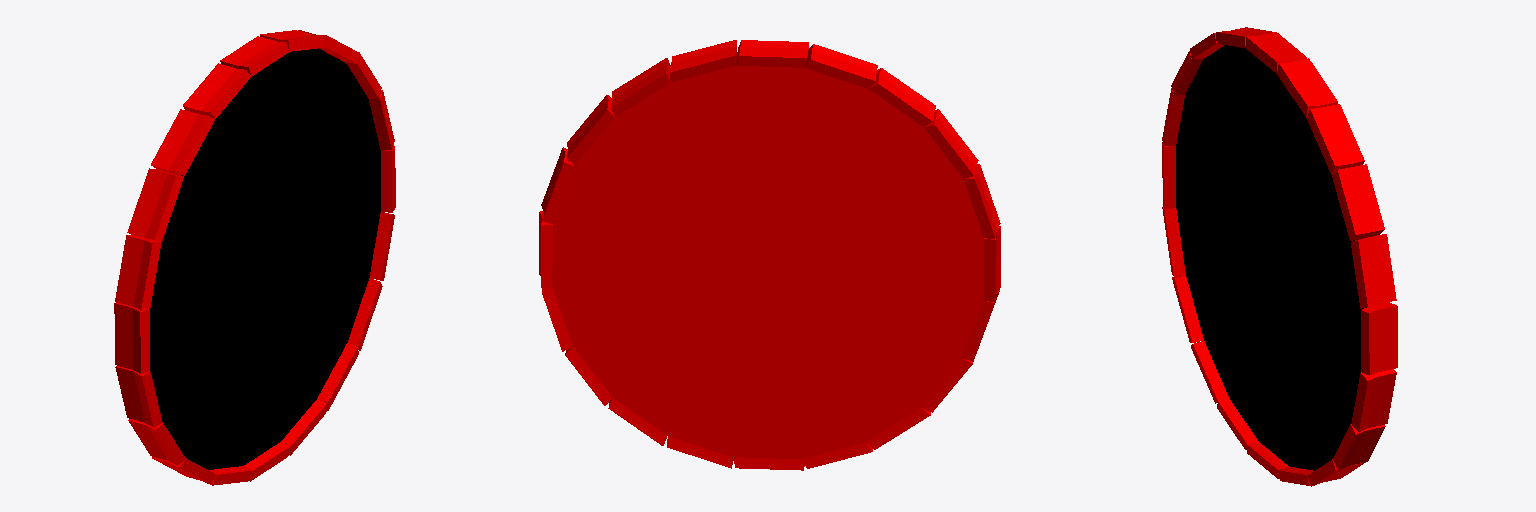
File: clock.obj
3 views of the same model, side by side, from view 1: azimuth 30°, elevation 25°; view 2: azimuth 150°, elevation 25°; view 3: azimuth 270°, elevation 25° (orthographic).
Visible parts, largest first — view 1: pCylinder1; view 2: pCylinder1; view 3: pCylinder1.
Part boxes in pixels (x1,y1,x2,y2): pCylinder1: (114, 30, 395, 485); pCylinder1: (539, 40, 1000, 470); pCylinder1: (1162, 27, 1397, 486).
Size of the model in its own units: 11.89 by 12.83 by 6.58.